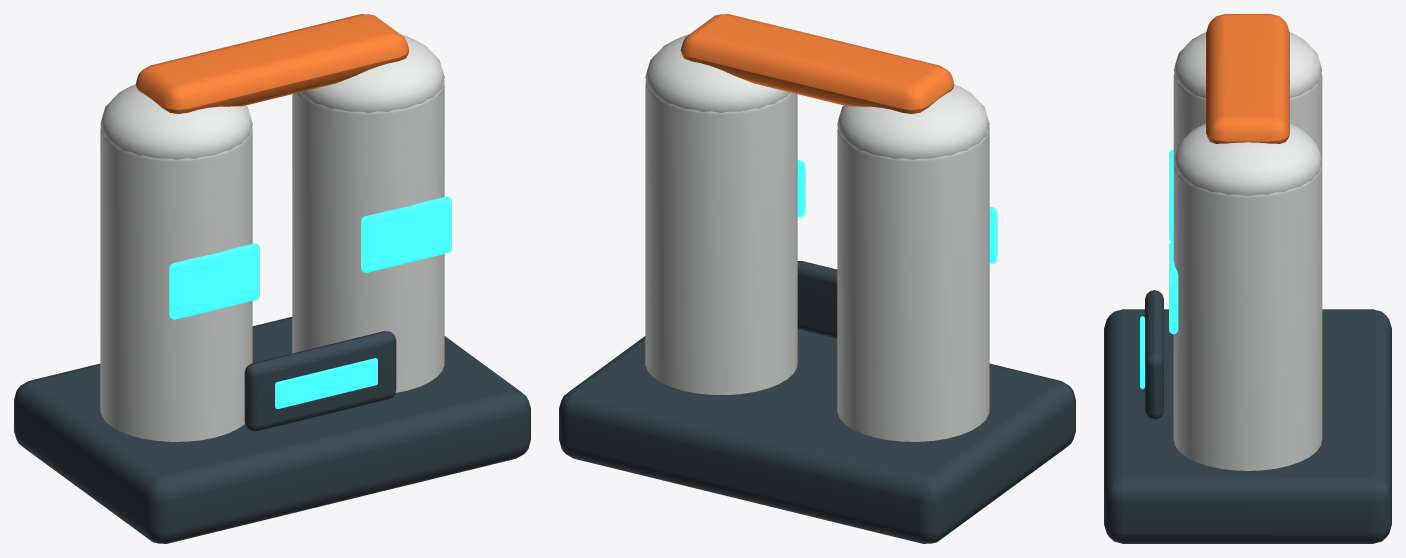
The model's file is water.glb.
3 renders of one model, left to right at view 1: azimuth 30°, elevation 25°; view 2: azimuth 150°, elevation 25°; view 3: azimuth 270°, elevation 25°, orthographic. The views are drawn at different scales.
Parts seen in each view (by area): view 1: water recycler skid, water filtration tank, water filtration tank.001, control bridge, filter display, tank cap, tank cap.001, water label, water label.001, filter status; view 2: water recycler skid, water filtration tank, water filtration tank.001, control bridge, tank cap, tank cap.001, filter display; view 3: water recycler skid, water filtration tank.001, control bridge, tank cap.001, water filtration tank, tank cap, filter display, water label.001, water label, filter status.
Part boxes in pixels (bbox=[...]): water recycler skid: bbox=[14, 317, 530, 543]; water filtration tank: bbox=[100, 127, 252, 441]; water filtration tank.001: bbox=[292, 80, 444, 392]; control bridge: bbox=[135, 14, 409, 113]; filter display: bbox=[244, 331, 396, 431]; tank cap: bbox=[100, 84, 252, 159]; tank cap.001: bbox=[299, 34, 444, 112]; water label: bbox=[169, 243, 259, 319]; water label.001: bbox=[361, 196, 451, 272]; filter status: bbox=[275, 358, 377, 408]; water recycler skid: bbox=[559, 329, 1075, 543]; water filtration tank: bbox=[837, 127, 989, 441]; water filtration tank.001: bbox=[645, 80, 797, 394]; control bridge: bbox=[680, 14, 954, 113]; tank cap: bbox=[837, 84, 989, 159]; tank cap.001: bbox=[645, 34, 790, 112]; filter display: bbox=[797, 261, 837, 338]; water recycler skid: bbox=[1104, 309, 1391, 543]; water filtration tank.001: bbox=[1173, 164, 1322, 470]; control bridge: bbox=[1206, 14, 1289, 143]; tank cap.001: bbox=[1173, 123, 1322, 195]; water filtration tank: bbox=[1173, 73, 1322, 165]; tank cap: bbox=[1173, 32, 1322, 97]; filter display: bbox=[1145, 290, 1163, 419]; water label.001: bbox=[1169, 240, 1178, 334]; water label: bbox=[1169, 149, 1173, 241]; filter status: bbox=[1140, 316, 1144, 389].
Bounding box in the file's own units: 1.8 × 1.81 × 1.2.
